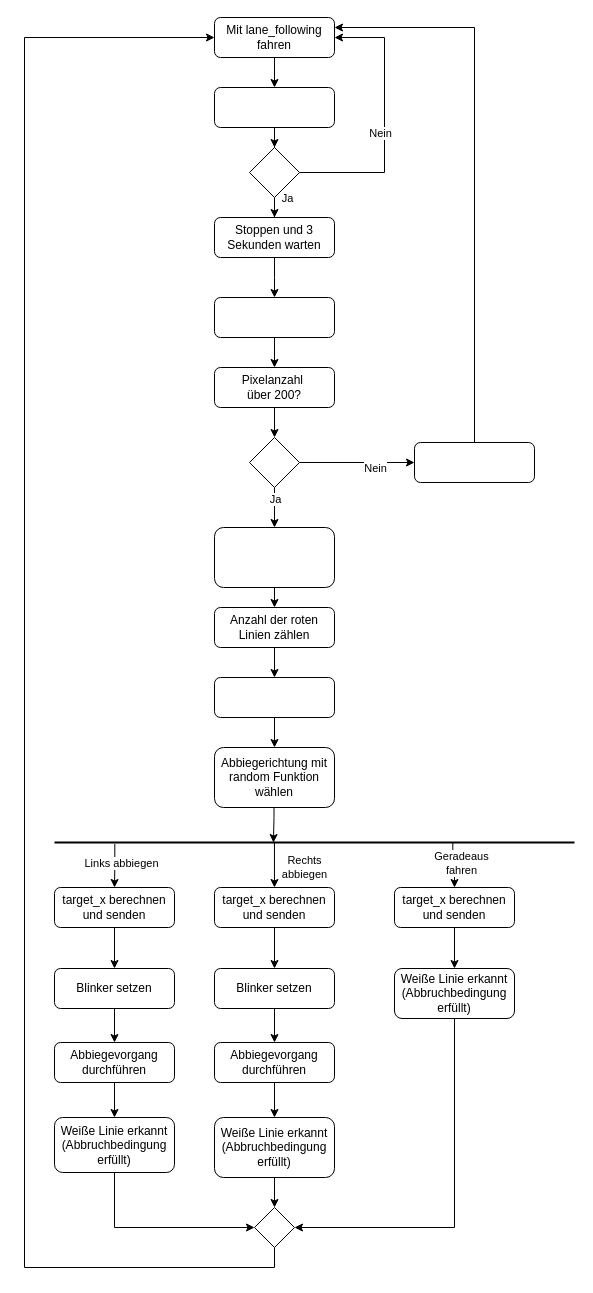
Image size: 593x1293. Some labels were removed from this diagram. Each missing label, with the box of its shape:
Abbiegemöglichkeiten berechnen: (214, 676, 334, 718)
Anzahl roter Pixel prüfen: (214, 296, 334, 338)
Keine rote Linie: (414, 442, 534, 482)
Rote Linie erkannt, Publisher, dass eine Linie da ist: (214, 526, 334, 588)
Rote Linie erkannt?: (214, 86, 334, 128)
